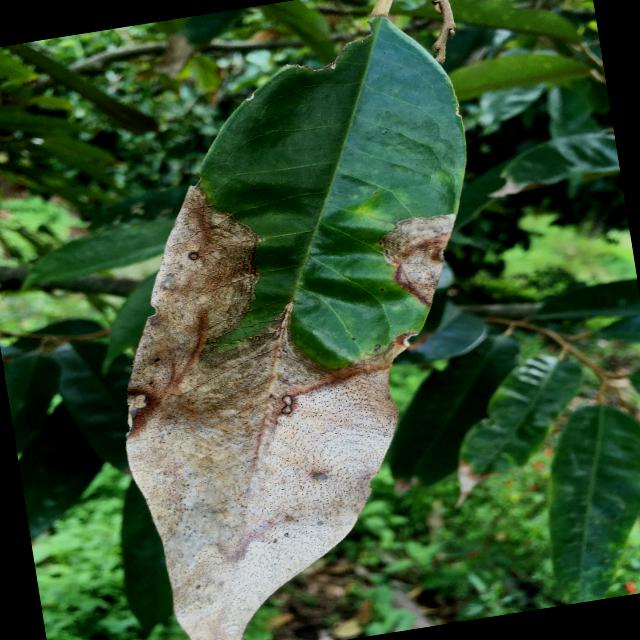Leaf Blight: (53, 0, 556, 639)
